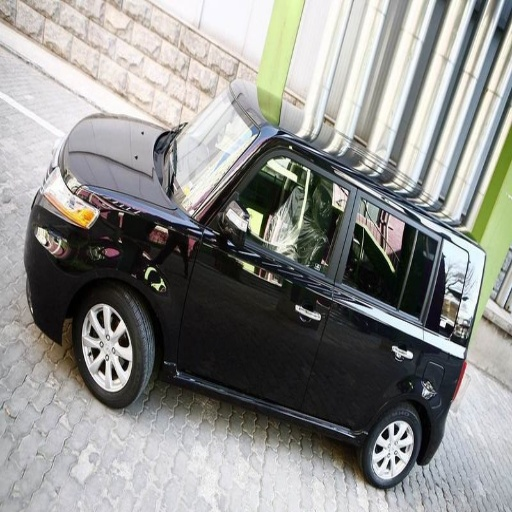front_right_light: (43, 159, 98, 222)
